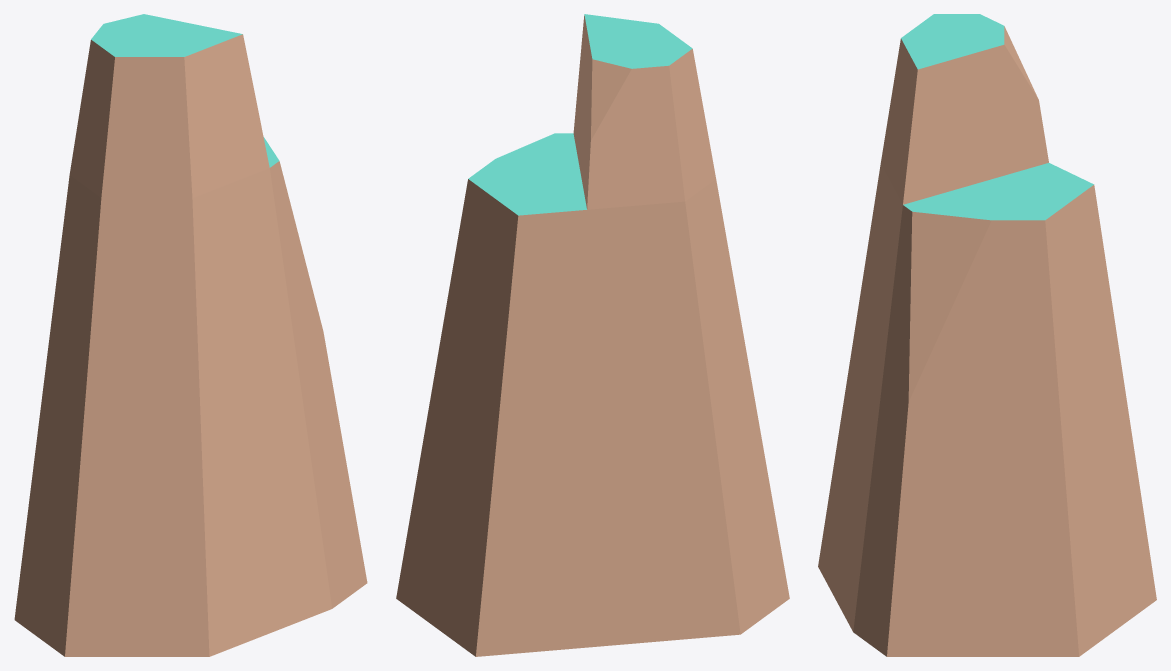
File: rock_tallI.glb
The picture shows the model from 3 angles, left to right: view 1: azimuth 30°, elevation 25°; view 2: azimuth 150°, elevation 25°; view 3: azimuth 270°, elevation 25°; orthographic projection. The views are drawn at different scales.
Parts seen in each view (by area): view 1: rock_tallI; view 2: rock_tallI; view 3: rock_tallI.
Part boxes in pixels (box(x1,y1,x2,y2)): rock_tallI: box(14, 14, 367, 656); rock_tallI: box(396, 14, 789, 656); rock_tallI: box(818, 14, 1156, 656).
Bounding box in the file's own units: 0.4562 × 0.8118 × 0.4644.
Materials: 1 (1 with a texture image).
